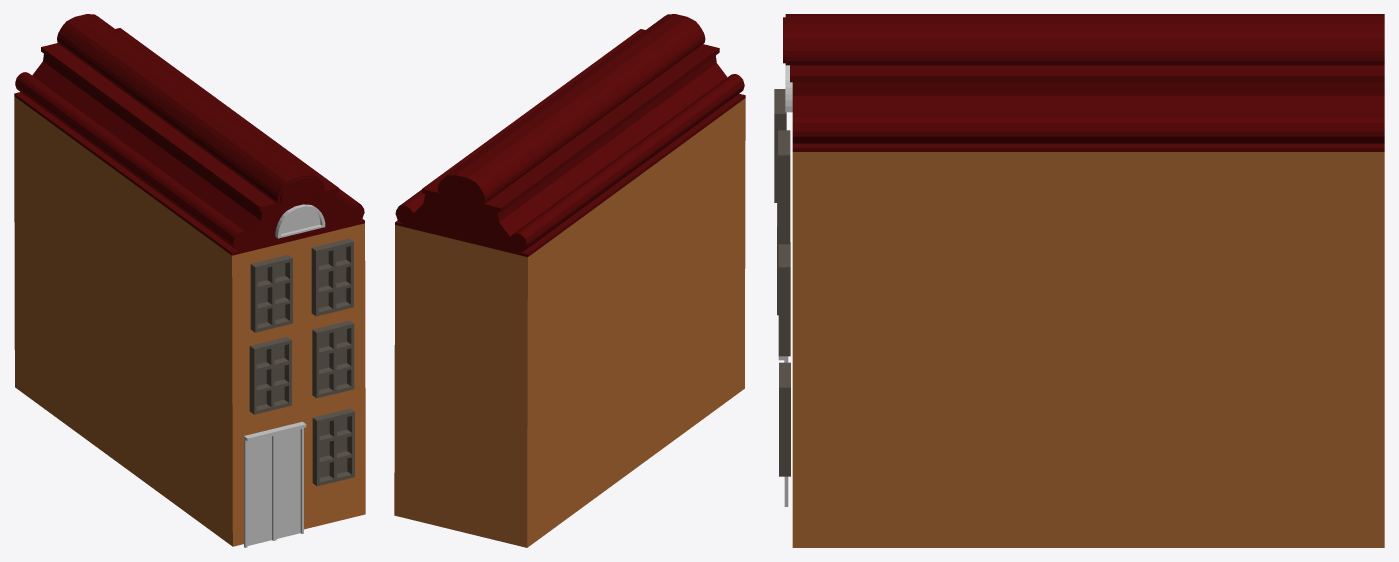
The model's file is house1.fbx.
3 renders of one model, left to right at view 1: azimuth 30°, elevation 25°; view 2: azimuth 150°, elevation 25°; view 3: azimuth 270°, elevation 25°, orthographic. The views are drawn at different scales.
Visible parts, largest first — view 1: Plane, Plane.002, Plane.003, Plane.004, Plane.005, Plane.006, Plane.007, Plane.001; view 2: Plane; view 3: Plane, Plane.005, Plane.004, Plane.003, Plane.006.
Part boxes in pixels (x1,y1,x2,y2): Plane: (14,14,365,546); Plane.002: (244,421,306,547); Plane.003: (312,408,354,486); Plane.004: (312,320,354,398); Plane.005: (311,238,353,316); Plane.006: (250,255,292,332); Plane.007: (249,337,291,414); Plane.001: (275,204,325,238); Plane: (394,14,745,547); Plane: (783,14,1384,547); Plane.005: (778,130,790,244); Plane.004: (778,242,790,356); Plane.003: (779,362,790,476); Plane.006: (774,89,786,202).
Bounding box in the file's own units: 143 × 364 × 415.
